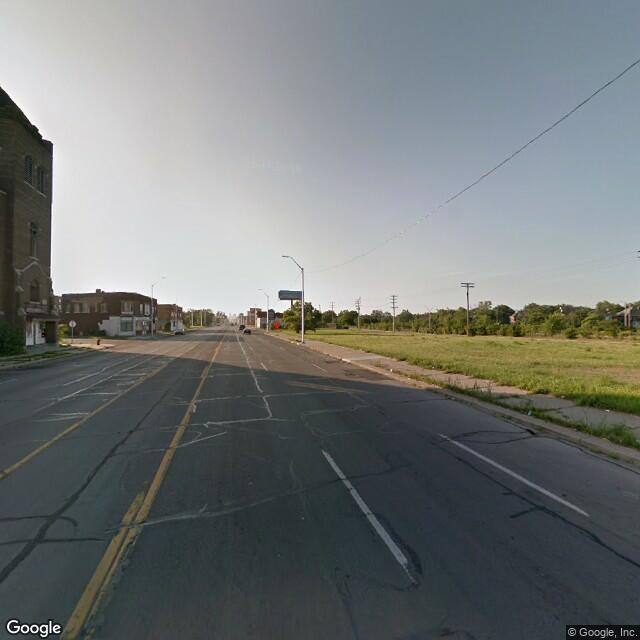litter: (521, 408, 540, 421), (598, 407, 616, 416)
